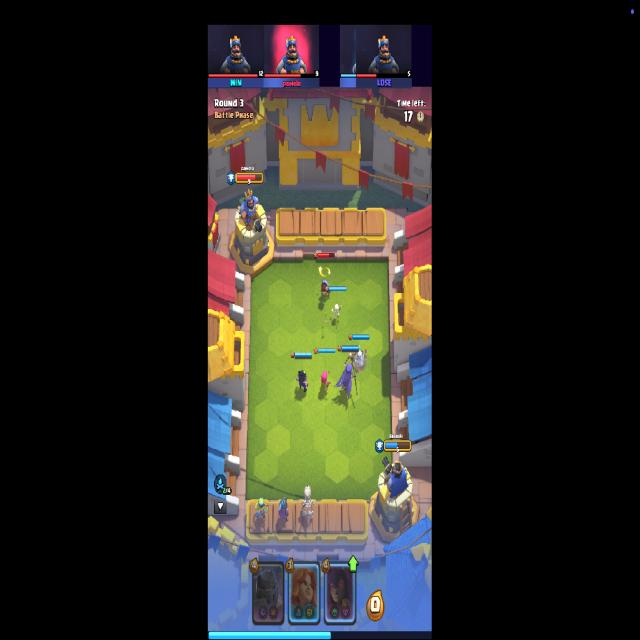card_mega_knight: (252, 561, 284, 626)
card_valkyrie: (287, 560, 321, 626)
card_witch: (324, 560, 356, 626)
goblin: (254, 499, 269, 523)
musketeer: (278, 496, 290, 524)
skeleton_dragon: (301, 485, 315, 525)
